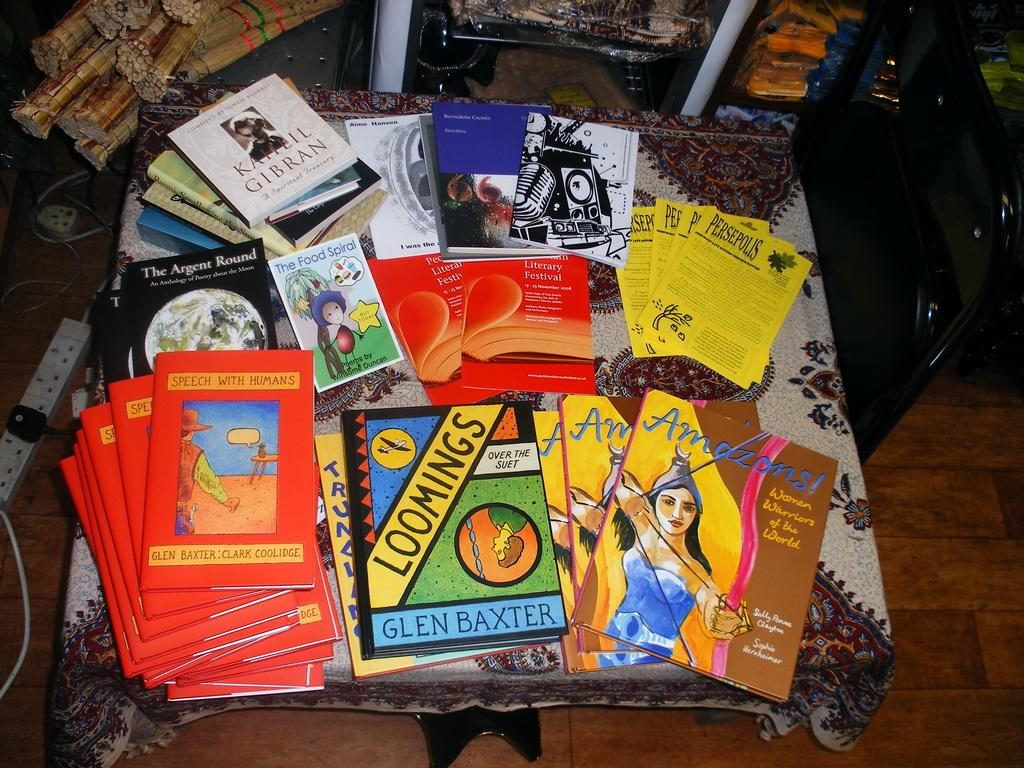Book: (339, 401, 569, 671), (138, 348, 316, 590)
